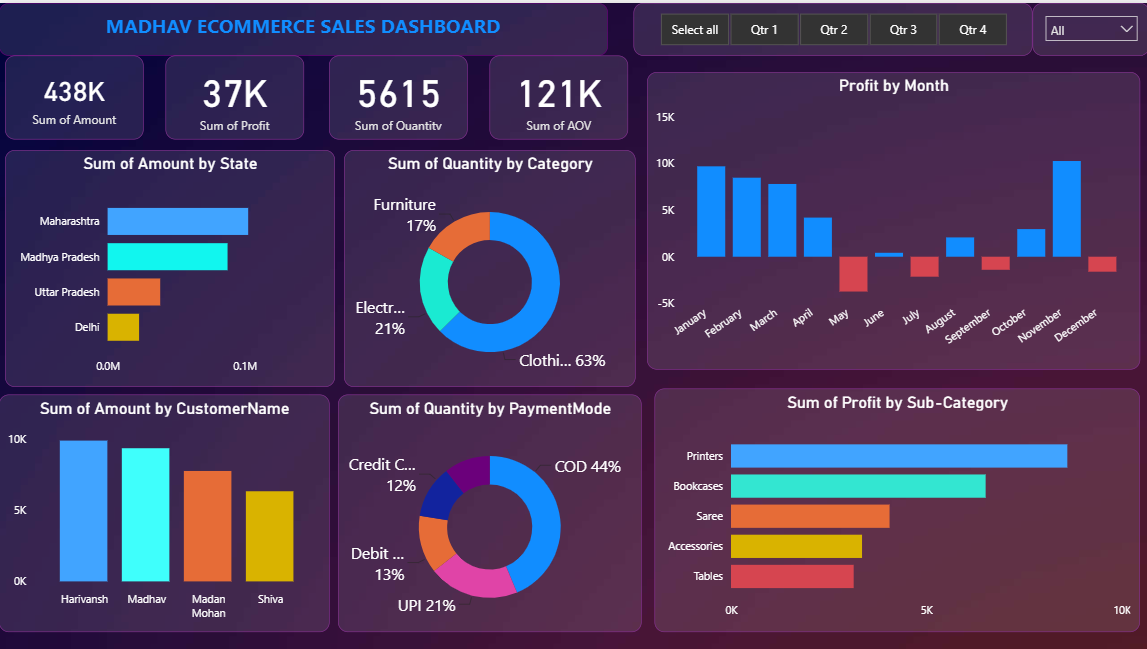

What the dashboard file says about the page in this screenshot:
{"tool":"powerbi","page":{"name":"Page 1","canvas":[1280,720],"ordinal":0},"visuals":[{"type":"textbox","box":[0,0,676.5,58.7],"z":0},{"type":"columnChart","title":"Profit by Month","fields":{"Category":["Orders.Order Date.Variation.Date Hierarchy.Month"],"Y":["Sum(Details.Profit)"]},"box":[720.5,76.3,547.8,330.4],"z":1000},{"type":"barChart","fields":{"Category":["Details.Sub-Category"],"Y":["Sum(Details.Profit)"]},"box":[728.5,427.9,539.2,270.4],"z":2000},{"type":"donutChart","fields":{"Category":["Details.Category"],"Y":["Sum(Details.Quantity)"]},"box":[382.8,164.1,324.1,263.3],"z":3000},{"type":"donutChart","fields":{"Category":["Details.PaymentMode"],"Y":["Sum(Details.Quantity)"]},"box":[376.7,435.4,337.2,264],"z":4000},{"type":"card","fields":{"Values":["Sum(Details.Amount)"]},"box":[6.1,58.7,154,93.2],"z":5000},{"type":"card","fields":{"Values":["Sum(Details.Profit)"]},"box":[184.3,58.7,154,93.2],"z":6000},{"type":"card","fields":{"Values":["Sum(Details.Quantity)"]},"box":[366.6,58.7,154,93.2],"z":7000},{"type":"card","fields":{"Values":["Sum(Details.AOV)"]},"box":[544.8,58.7,154,93.2],"z":8000},{"type":"barChart","fields":{"Category":["Orders.State"],"Y":["Sum(Details.Amount)"]},"box":[6.1,164.1,366.6,263.3],"z":9000},{"type":"columnChart","fields":{"Category":["Orders.CustomerName"],"Y":["Sum(Details.Amount)"]},"box":[0,435,367,264],"z":10000},{"type":"slicer","fields":{"Values":["Orders.Order Date.Variation.Date Hierarchy.Quarter"]},"box":[704.8,0,443.5,58.7],"z":11000},{"type":"slicer","fields":{"Values":["Orders.State"]},"box":[1148.4,0,131.6,58.7],"z":12000}]}

Visuals, with their boxes in screenshot pixels (x1, y1, x2, y2), scaled from the page's 1280x720 canvas onto the 1147x649 screenshot:
textbox: pyautogui.locateOnScreen(0, 0, 606, 53)
"Profit by Month" columnChart: pyautogui.locateOnScreen(646, 69, 1137, 367)
barChart - Details.Sub-Category x Sum(Details.Profit): pyautogui.locateOnScreen(653, 386, 1136, 629)
donutChart - Details.Category x Sum(Details.Quantity): pyautogui.locateOnScreen(343, 148, 633, 385)
donutChart - Details.PaymentMode x Sum(Details.Quantity): pyautogui.locateOnScreen(338, 392, 640, 630)
card - Sum(Details.Amount): pyautogui.locateOnScreen(5, 53, 143, 137)
card - Sum(Details.Profit): pyautogui.locateOnScreen(165, 53, 303, 137)
card - Sum(Details.Quantity): pyautogui.locateOnScreen(329, 53, 467, 137)
card - Sum(Details.AOV): pyautogui.locateOnScreen(488, 53, 626, 137)
barChart - Orders.State x Sum(Details.Amount): pyautogui.locateOnScreen(5, 148, 334, 385)
columnChart - Orders.CustomerName x Sum(Details.Amount): pyautogui.locateOnScreen(0, 392, 329, 630)
slicer - Orders.Order Date.Variation.Date Hierarchy.Quarter: pyautogui.locateOnScreen(632, 0, 1029, 53)
slicer - Orders.State: pyautogui.locateOnScreen(1029, 0, 1146, 53)
